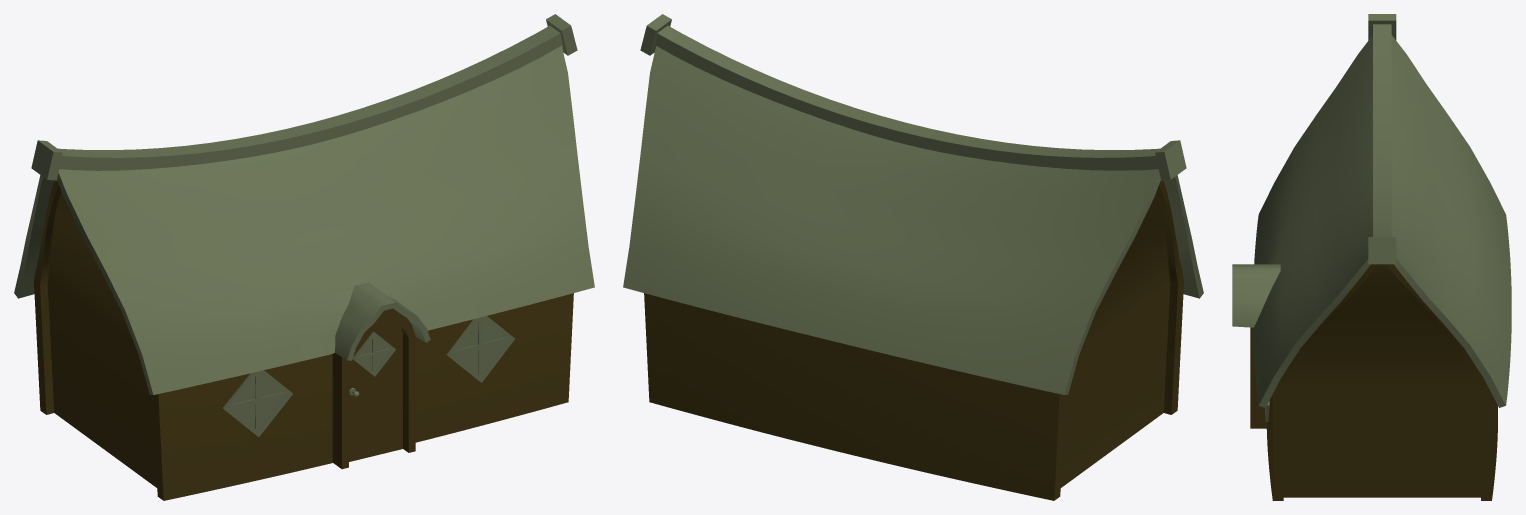
Rendered from inn_low.fbx.
3 views of the same model, side by side, from view 1: azimuth 30°, elevation 25°; view 2: azimuth 150°, elevation 25°; view 3: azimuth 270°, elevation 25° (orthographic). The views are drawn at different scales.
Visible parts, largest first — view 1: innBuilding_low; view 2: innBuilding_low; view 3: innBuilding_low.
Boxes of the visible parts, bbox=[...] form: innBuilding_low: bbox=[14, 14, 594, 500]; innBuilding_low: bbox=[623, 14, 1203, 500]; innBuilding_low: bbox=[1232, 14, 1511, 500].
Size of the model in its own units: 775 by 451 by 398.
